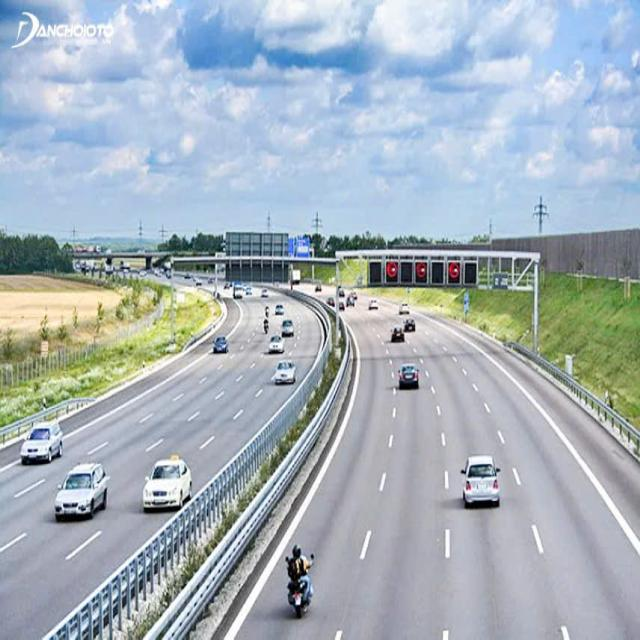car: (52, 457, 111, 526), (139, 448, 192, 513), (460, 452, 504, 511), (18, 416, 65, 466), (394, 355, 422, 393), (270, 353, 296, 387), (211, 327, 228, 358), (268, 331, 284, 358), (282, 317, 296, 343), (390, 322, 404, 345), (404, 315, 417, 336)
motobyte: (278, 537, 320, 620), (262, 316, 270, 335)
